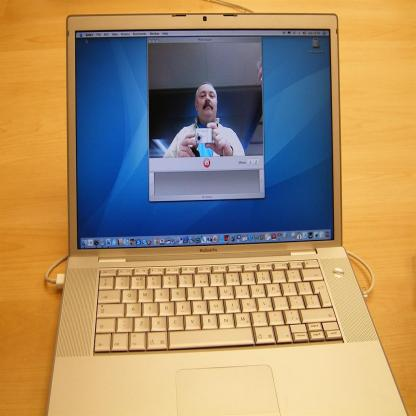board: (40, 17, 390, 396)
